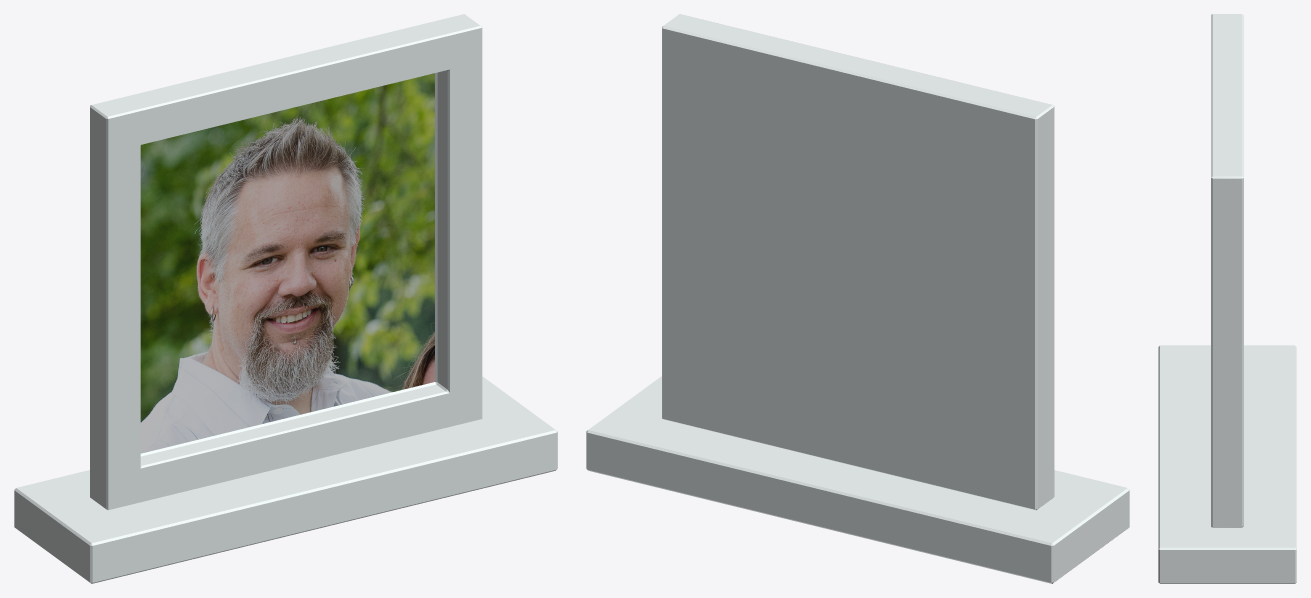
Rendered from aws_DeskPortraitD_01_visual.DAE.
The picture shows the model from 3 angles, left to right: view 1: azimuth 30°, elevation 25°; view 2: azimuth 150°, elevation 25°; view 3: azimuth 270°, elevation 25°; orthographic projection. The views are drawn at different scales.
Visible parts, largest first — view 1: aws_DeskPortraitD_01_visual; view 2: aws_DeskPortraitD_01_visual; view 3: aws_DeskPortraitD_01_visual.
Boxes of the visible parts, x1,y1,x2,y2 form: aws_DeskPortraitD_01_visual: (14, 14, 557, 583); aws_DeskPortraitD_01_visual: (586, 14, 1129, 583); aws_DeskPortraitD_01_visual: (1158, 14, 1296, 583).
Size of the model in its own units: 14.81 by 4.26 by 13.14.
Materials: 2 (2 with a texture image).
